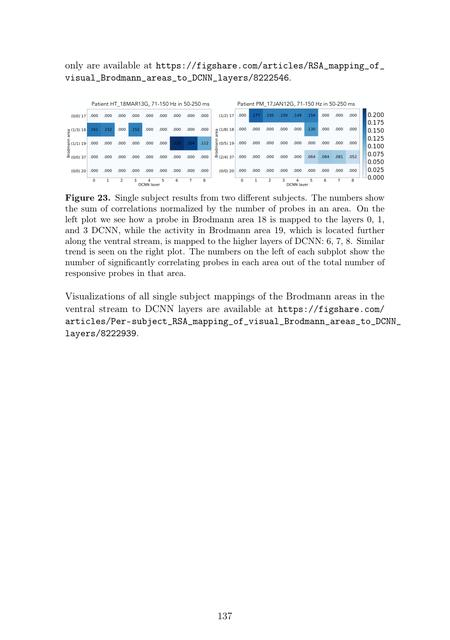box: (64, 95, 388, 188)
